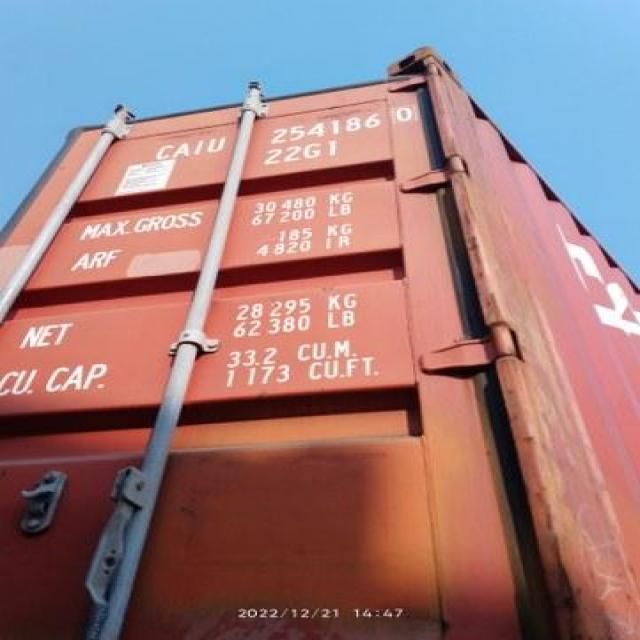container_number_h: (91, 90, 496, 187)
